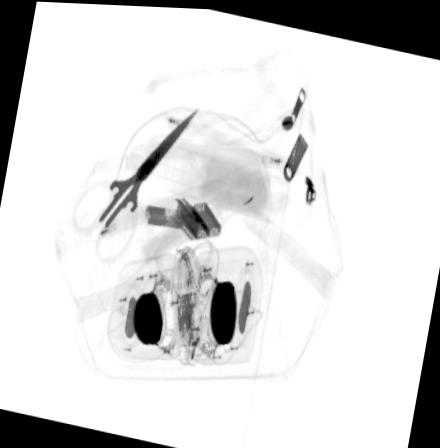Scissors: (77, 105, 198, 257)
